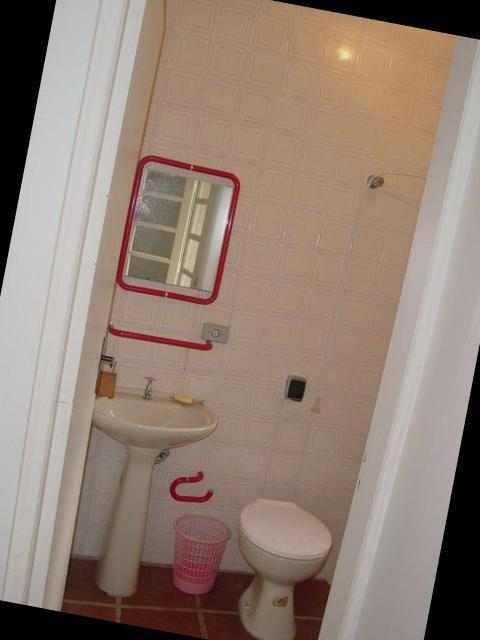Bote de Basura: (159, 501, 240, 602)
Lavamanos: (60, 363, 225, 610)
Sanitario: (208, 486, 343, 640)
